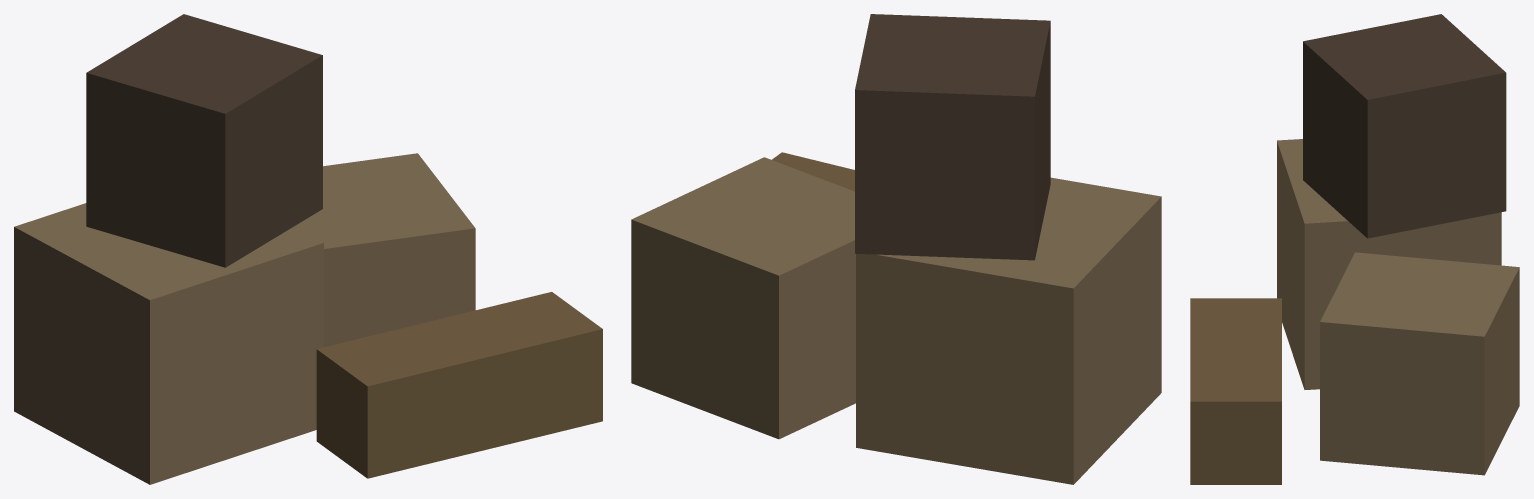
The model's file is crates.glb.
3 views of the same model, side by side, from view 1: azimuth 30°, elevation 25°; view 2: azimuth 150°, elevation 25°; view 3: azimuth 270°, elevation 25° (orthographic). The views are drawn at different scales.
Visible parts, largest first — view 1: crates; view 2: crates; view 3: crates.
Boxes of the visible parts, x1=… form: crates: x1=14, y1=14, x2=602, y2=484; crates: x1=631, y1=14, x2=1161, y2=484; crates: x1=1190, y1=14, x2=1519, y2=484.
Size of the model in its own units: 1.47 by 1.1 by 1.08.
